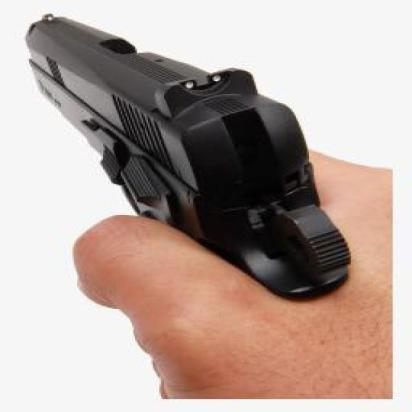Gun: (11, 12, 394, 408)
